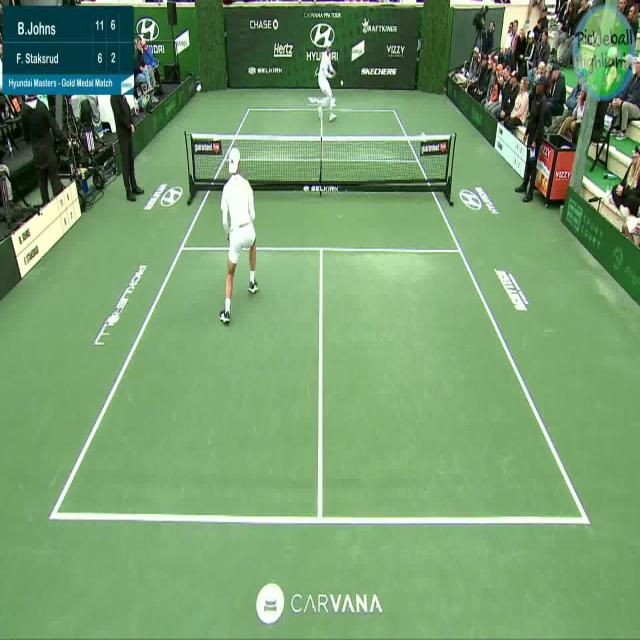ball: (337, 75, 345, 89)
